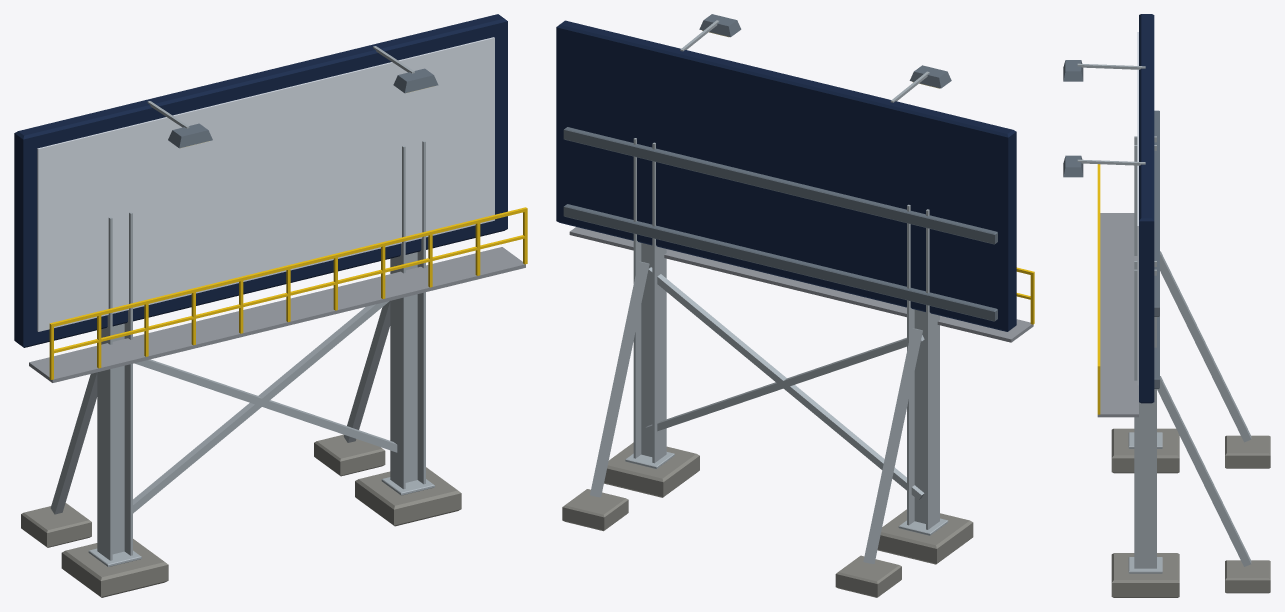
File: PROP_14.obj
3 renders of one model, left to right at view 1: azimuth 30°, elevation 25°; view 2: azimuth 150°, elevation 25°; view 3: azimuth 270°, elevation 25°, orthographic. The views are drawn at different scales.
Visible parts, largest first — view 1: PROP_14__face, PROP_14__frame, PROP_14__column, PROP_14__catwalk, PROP_14__catwalk_rail, PROP_14__footing, PROP_14__brace, PROP_14__rear_foot, PROP_14__rear_strut, PROP_14__flood, PROP_14__base_plate; view 2: PROP_14__frame, PROP_14__column, PROP_14__girder, PROP_14__footing, PROP_14__brace, PROP_14__rear_strut, PROP_14__catwalk, PROP_14__rear_foot, PROP_14__flood, PROP_14__base_plate; view 3: PROP_14__catwalk, PROP_14__frame, PROP_14__column, PROP_14__footing, PROP_14__rear_strut, PROP_14__rear_foot, PROP_14__girder, PROP_14__catwalk_rail, PROP_14__flood, PROP_14__face, PROP_14__flood_arm, PROP_14__base_plate.
Boxes of the visible parts, x1,y1,x2,y2 form: PROP_14__face: (37,37,494,331); PROP_14__frame: (14,14,507,347); PROP_14__column: (97,140,425,560); PROP_14__catwalk: (29,247,525,382); PROP_14__catwalk_rail: (49,207,527,379); PROP_14__footing: (61,467,461,597); PROP_14__brace: (133,301,397,513); PROP_14__rear_foot: (21,434,385,547); PROP_14__rear_strut: (50,301,390,514); PROP_14__flood: (168,68,438,148); PROP_14__base_plate: (88,477,434,566); PROP_14__frame: (556,20,1016,331); PROP_14__column: (633,138,939,529); PROP_14__girder: (563,127,997,321); PROP_14__footing: (604,442,973,564); PROP_14__brace: (645,267,924,500); PROP_14__rear_strut: (590,261,922,563); PROP_14__catwalk: (569,227,1033,342); PROP_14__rear_foot: (562,489,901,597); PROP_14__flood: (699,14,951,88); PROP_14__base_plate: (625,452,948,535); PROP_14__catwalk: (1097,213,1138,417); PROP_14__frame: (1139,14,1154,403); PROP_14__column: (1134,136,1156,568); PROP_14__footing: (1111,428,1179,597); PROP_14__rear_strut: (1157,251,1251,566); PROP_14__rear_foot: (1225,435,1270,593); PROP_14__girder: (1154,110,1159,388); PROP_14__catwalk_rail: (1097,164,1100,414); PROP_14__flood: (1063,60,1083,177); PROP_14__face: (1137,32,1138,385); PROP_14__flood_arm: (1077,63,1145,165); PROP_14__base_plate: (1128,432,1162,573).
Bounding box in the file's own units: 8.6 × 7.97 × 3.65.
